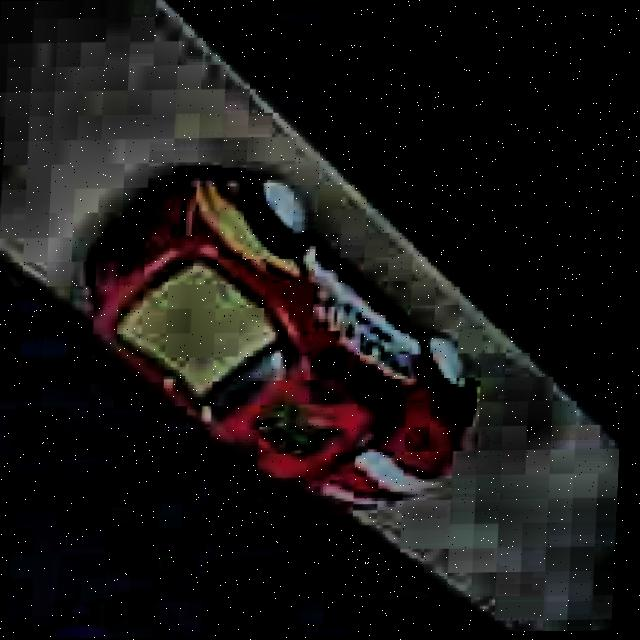car: (70, 160, 491, 521)
